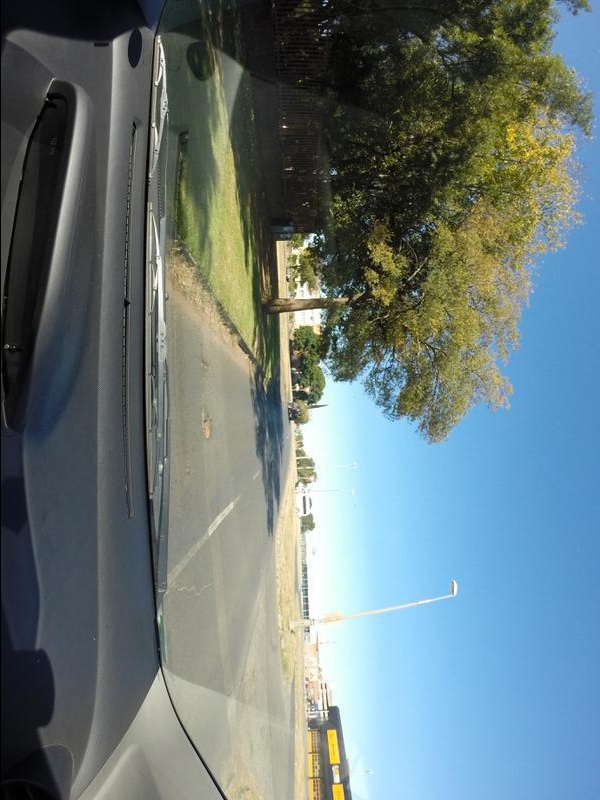pothole: (199, 411, 212, 439), (197, 362, 208, 368)
